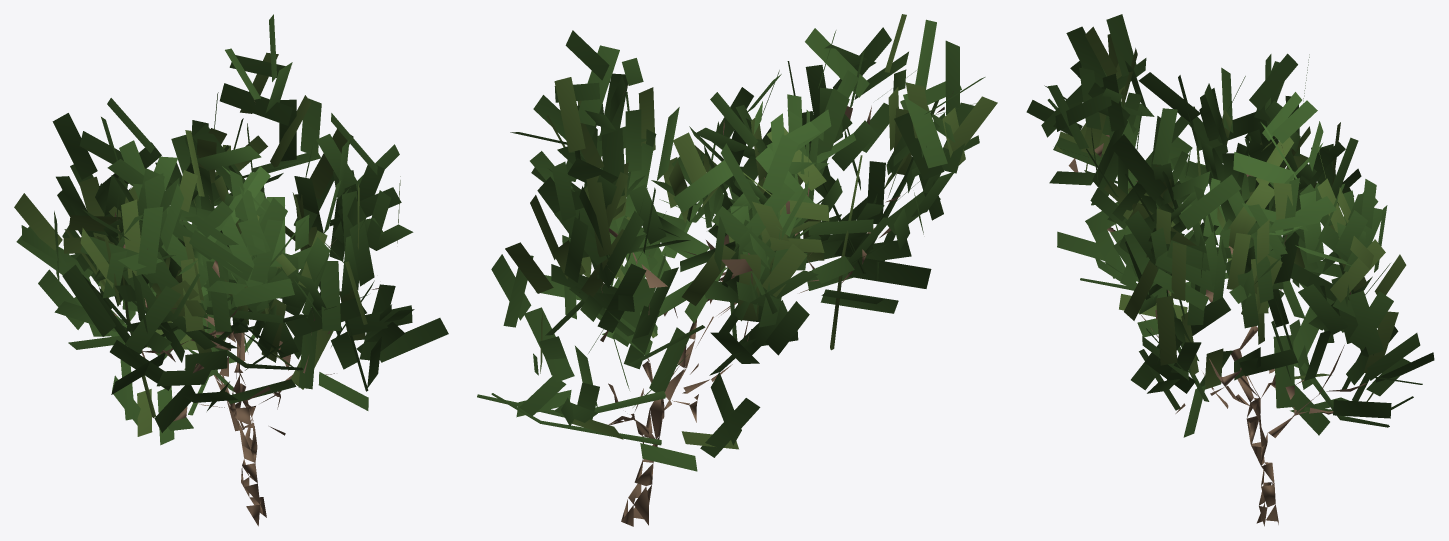
The model's file is arvore_5_longe.glb.
3 views of the same model, side by side, from view 1: azimuth 30°, elevation 25°; view 2: azimuth 150°, elevation 25°; view 3: azimuth 270°, elevation 25° (orthographic). The views are drawn at different scales.
Parts seen in each view (by area): view 1: arvore_5_longe; view 2: arvore_5_longe; view 3: arvore_5_longe.
Boxes of the visible parts, bbox=[...] form: arvore_5_longe: bbox=[14, 14, 448, 526]; arvore_5_longe: bbox=[477, 14, 997, 526]; arvore_5_longe: bbox=[1026, 14, 1434, 526].
Size of the model in its own units: 1.41 by 1.67 by 1.4.
